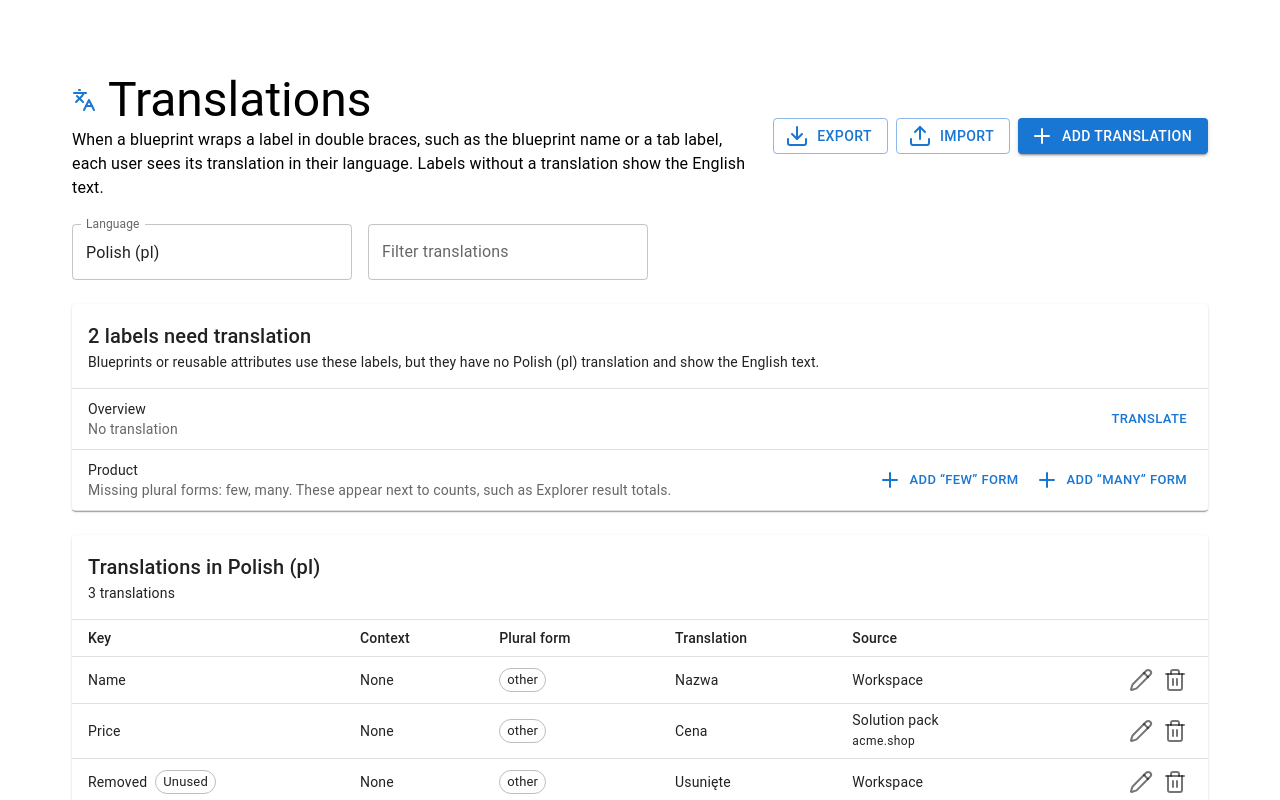
it: LexiconPage › refuses to add a translation the language already has
Click the button "Add translation".
click(1113, 136)  # box [1018, 118, 1208, 154]
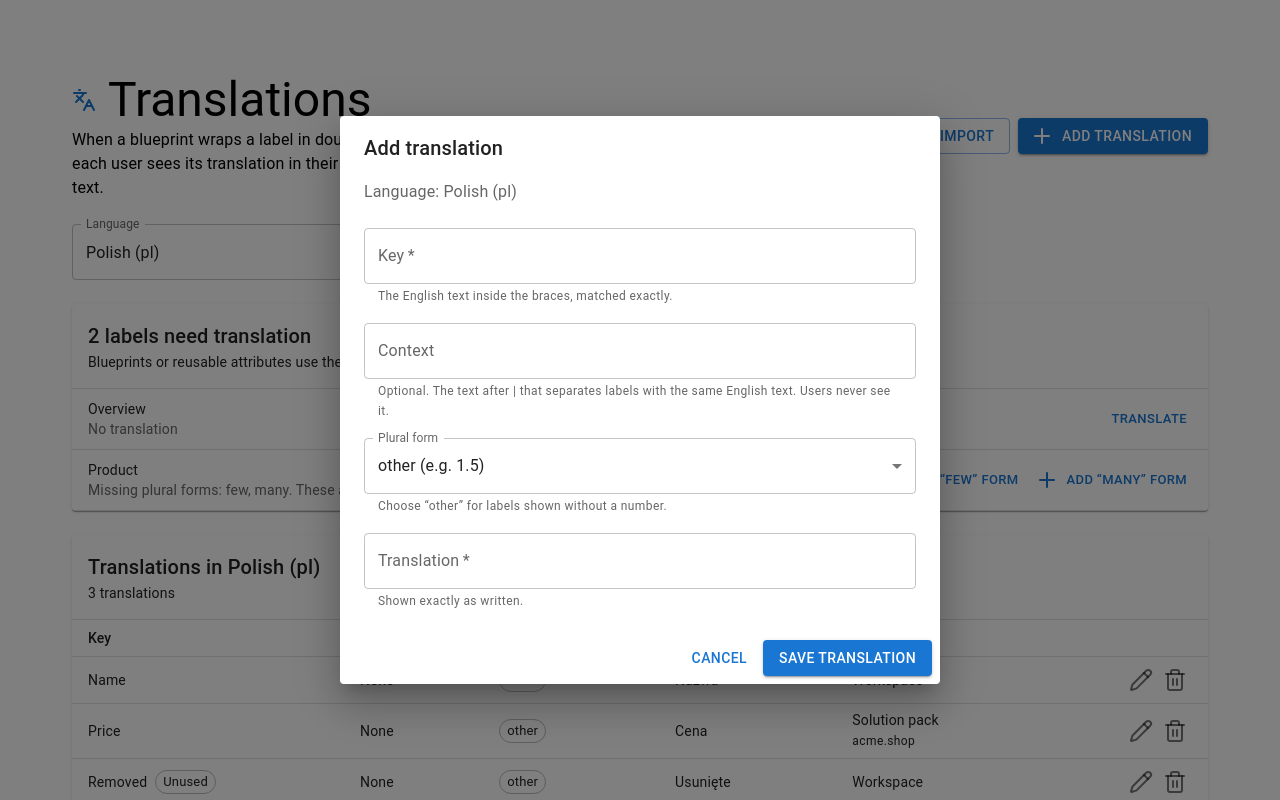
Type "Name" into the field labelled "Key *".
click(640, 256); type("Name")  # box [364, 228, 916, 284]
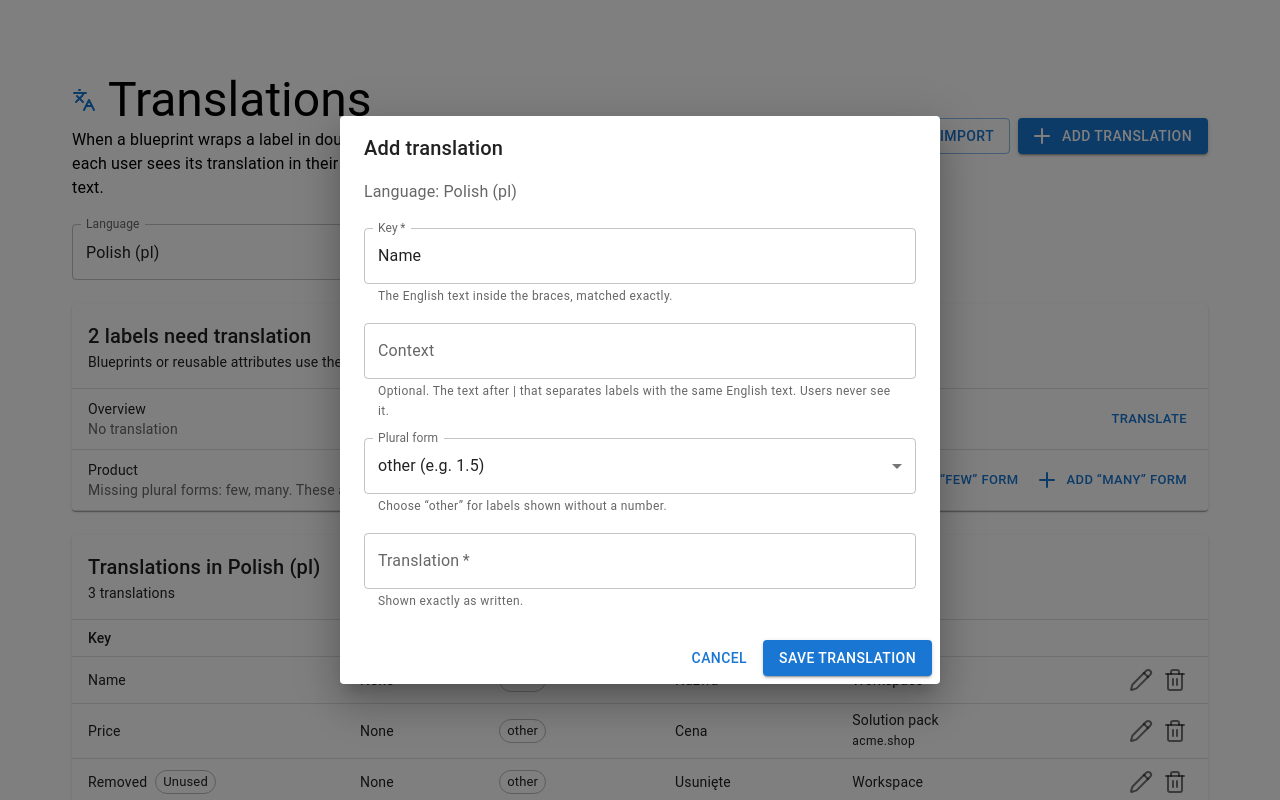
Type "Imię" into the text box labelled "Translation *".
click(640, 561); type("Imię")  # box [378, 549, 902, 572]
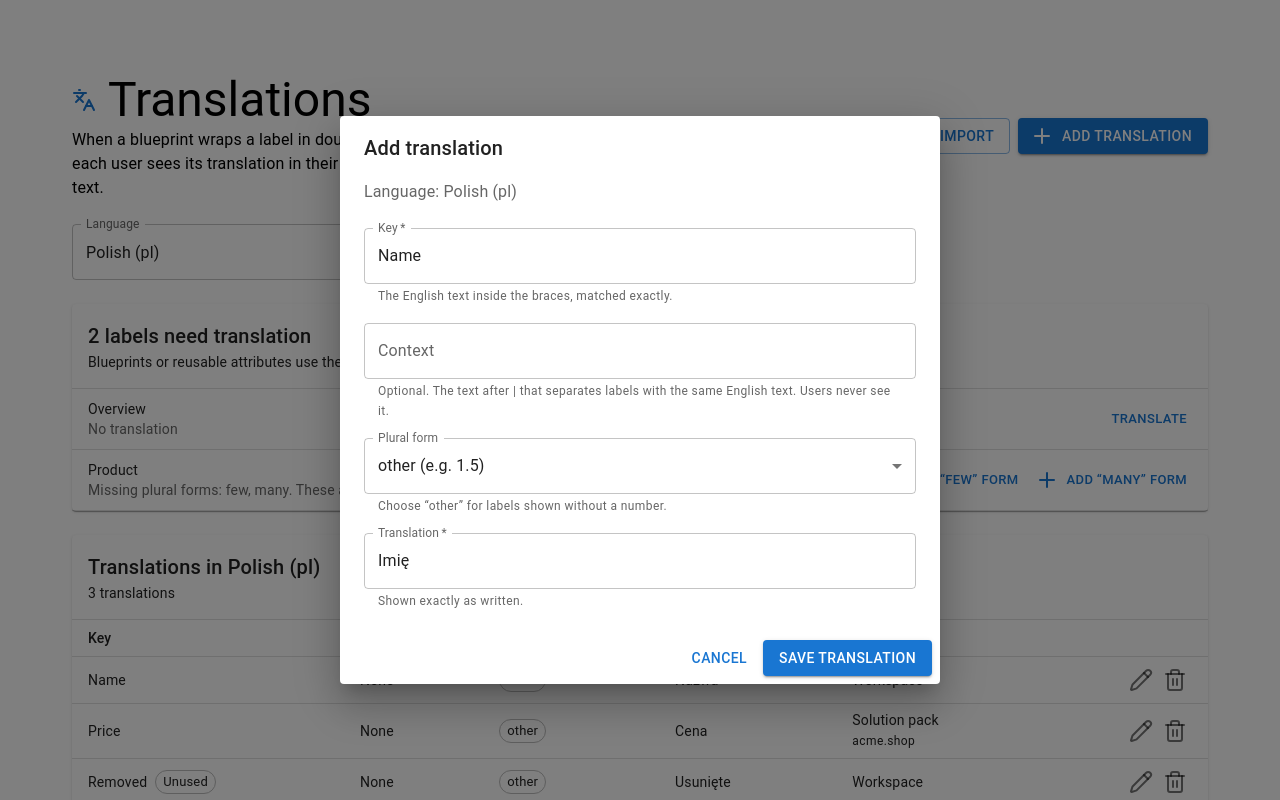
Click the button "Save translation".
click(848, 658)  # box [763, 640, 932, 676]
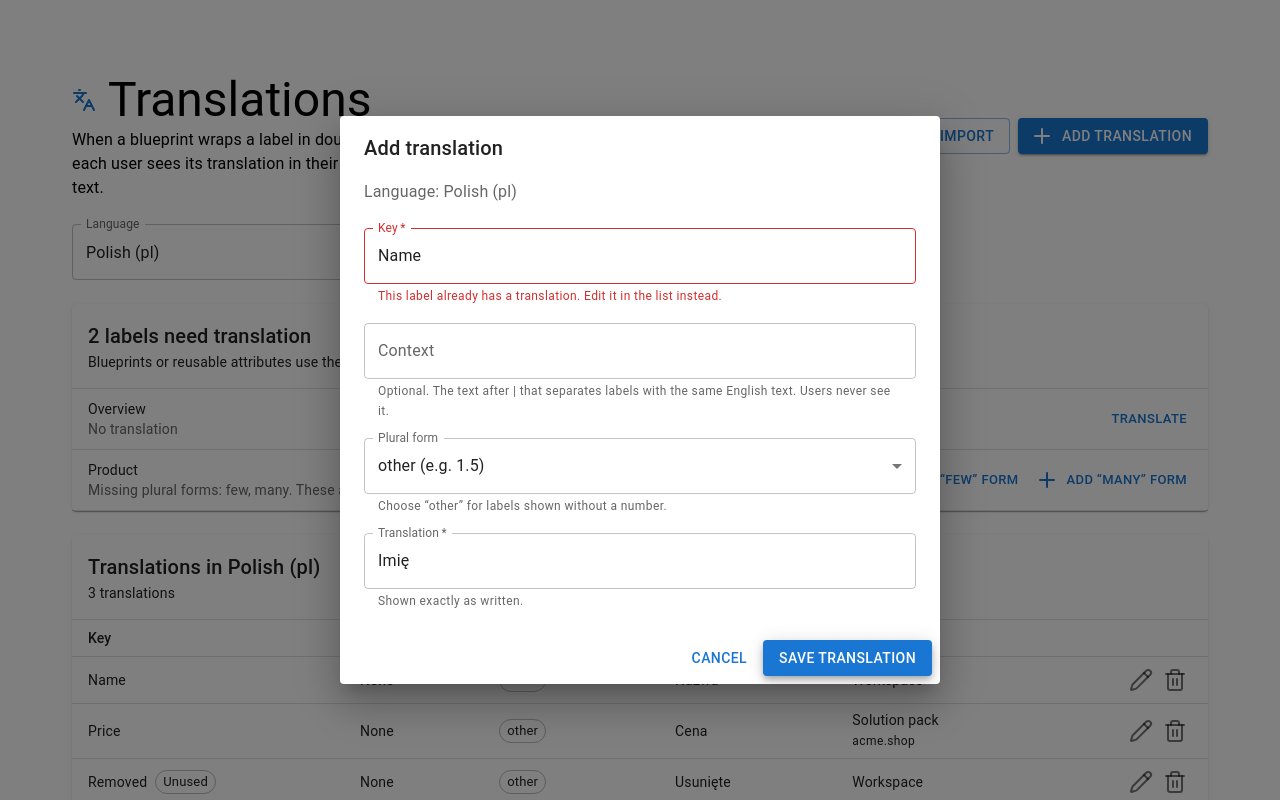
expect the text "This label already has a translation. Edit it in the list instead." is shown: met, box [378, 289, 722, 303]
